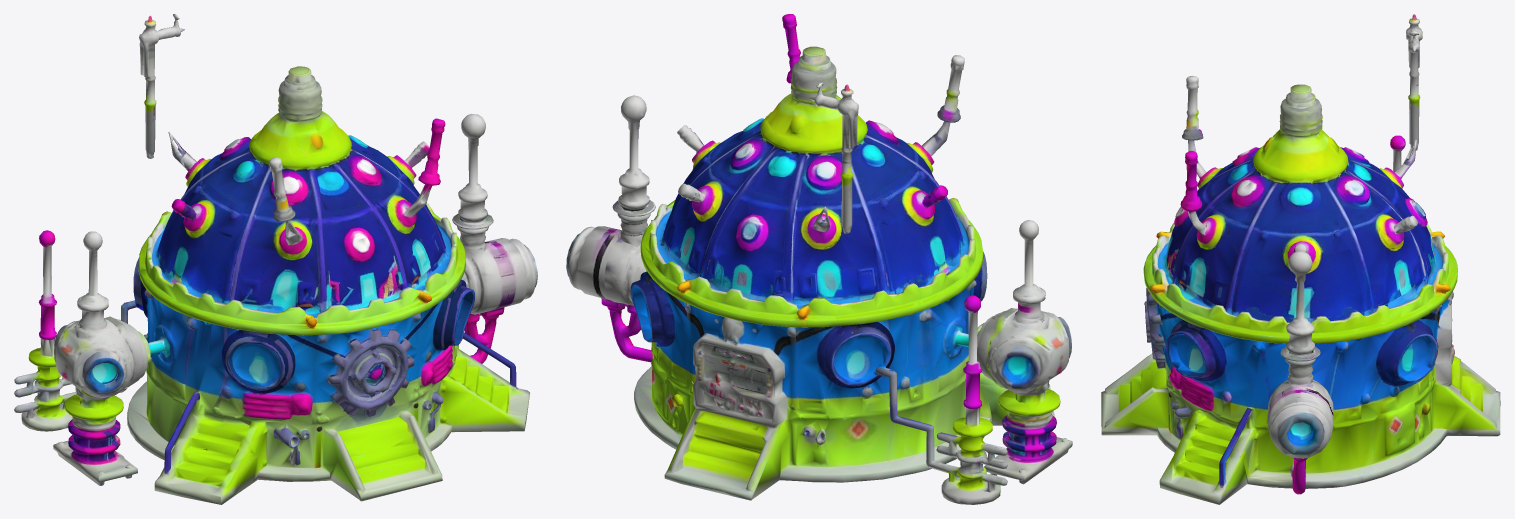
The model's file is fusion-lab.glb.
3 views of the same model, side by side, from view 1: azimuth 30°, elevation 25°; view 2: azimuth 150°, elevation 25°; view 3: azimuth 270°, elevation 25° (orthographic). The views are drawn at different scales.
Bounding box in the file's own units: 1.91 × 1.5 × 1.5.
1 material, 1 textured.
